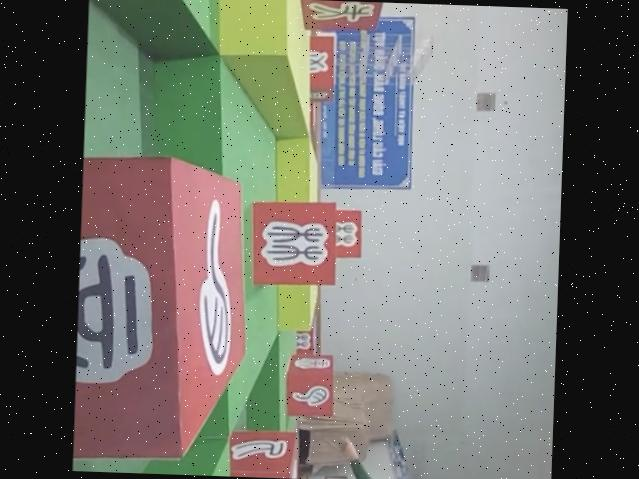R2 Fake: (72, 149, 257, 468), (246, 196, 342, 290), (216, 425, 301, 479), (282, 349, 339, 421), (291, 0, 389, 33)
